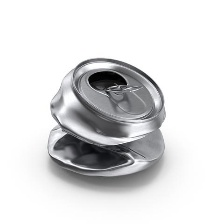can: (36, 54, 173, 184)
